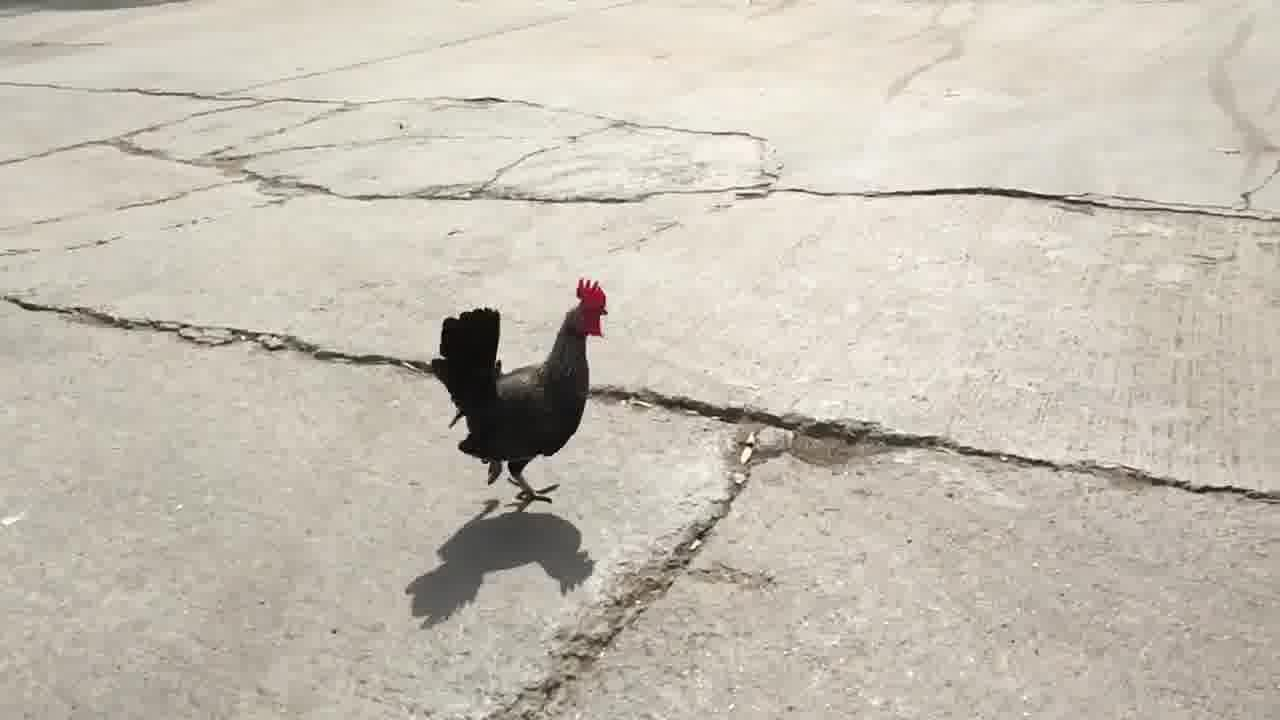Normal: (426, 282, 638, 506)
